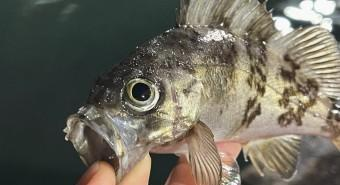fish: (63, 0, 339, 184)
